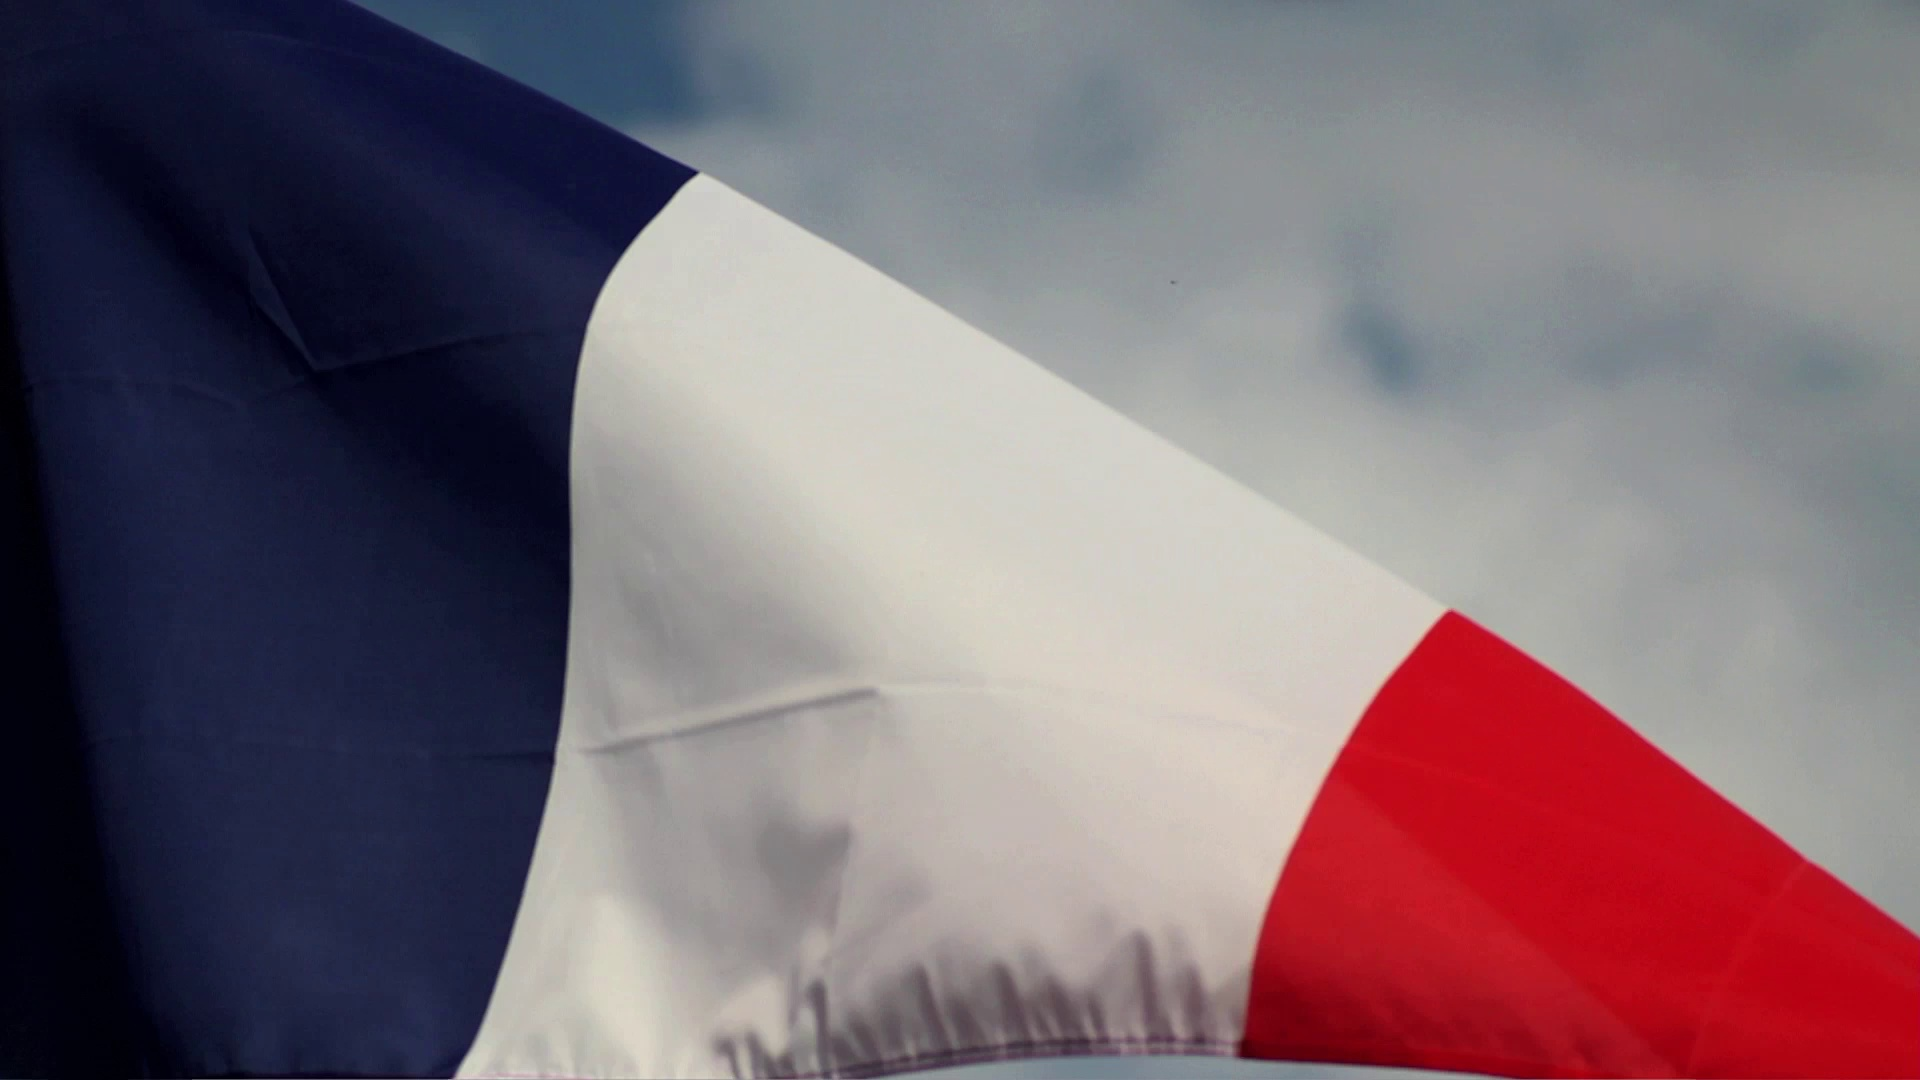French Flag: (1, 1, 1913, 1076)
